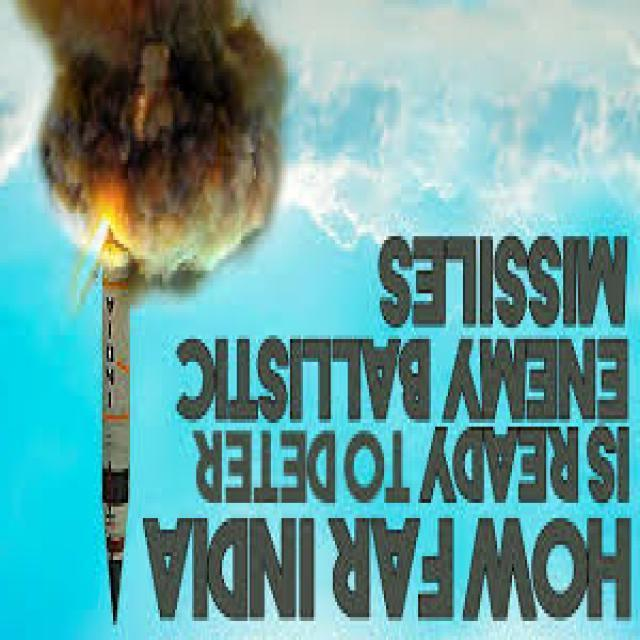Missile: (95, 248, 136, 633)
